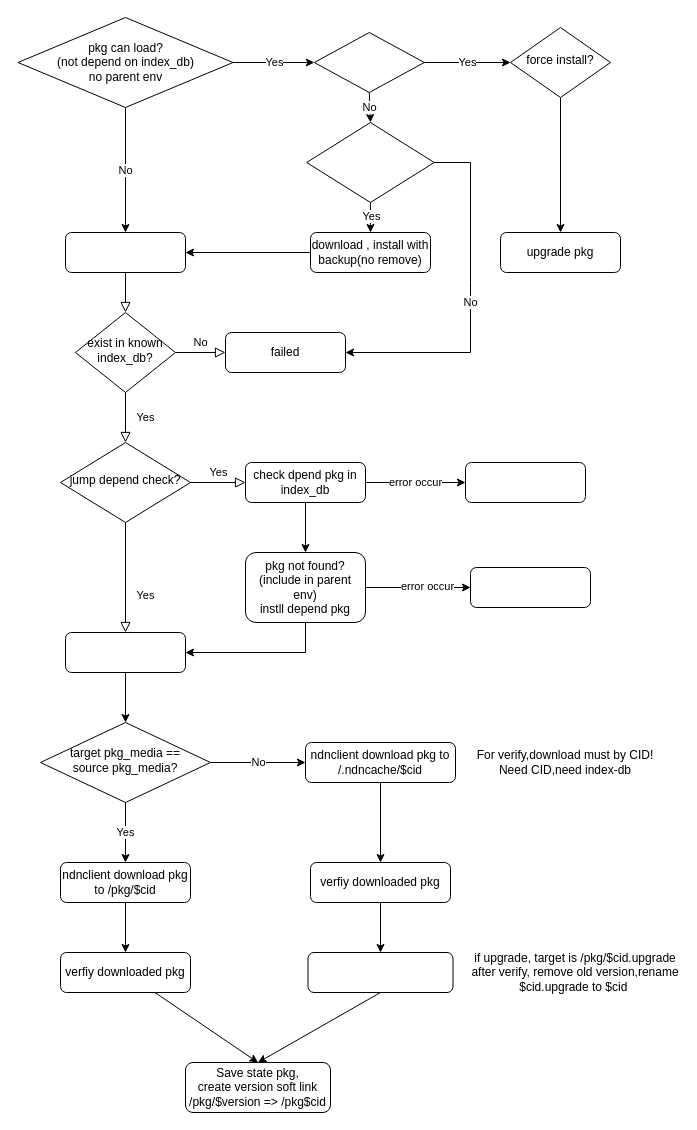
The diagram is 697 pixels wide and 1130 high, and some of its shapes have lost their labels. Each missing label, with the centre of its shape:
"can get cid from index_db?" goes at point (370, 162).
"check depend failed" goes at point (525, 482).
"install depend failed" goes at point (530, 587).
"load by cid?" goes at point (368, 62).
"start download and install/upgrade pkg" goes at point (125, 252).
"Start Install" goes at point (125, 652).
"transform to target media /pkg/$cid" goes at point (380, 972).
